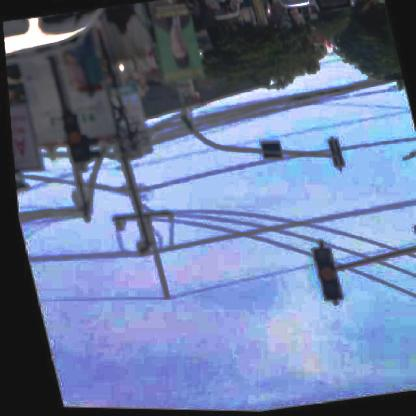Traffic Light -Yellow-: (305, 246, 339, 304), (58, 114, 86, 166)
